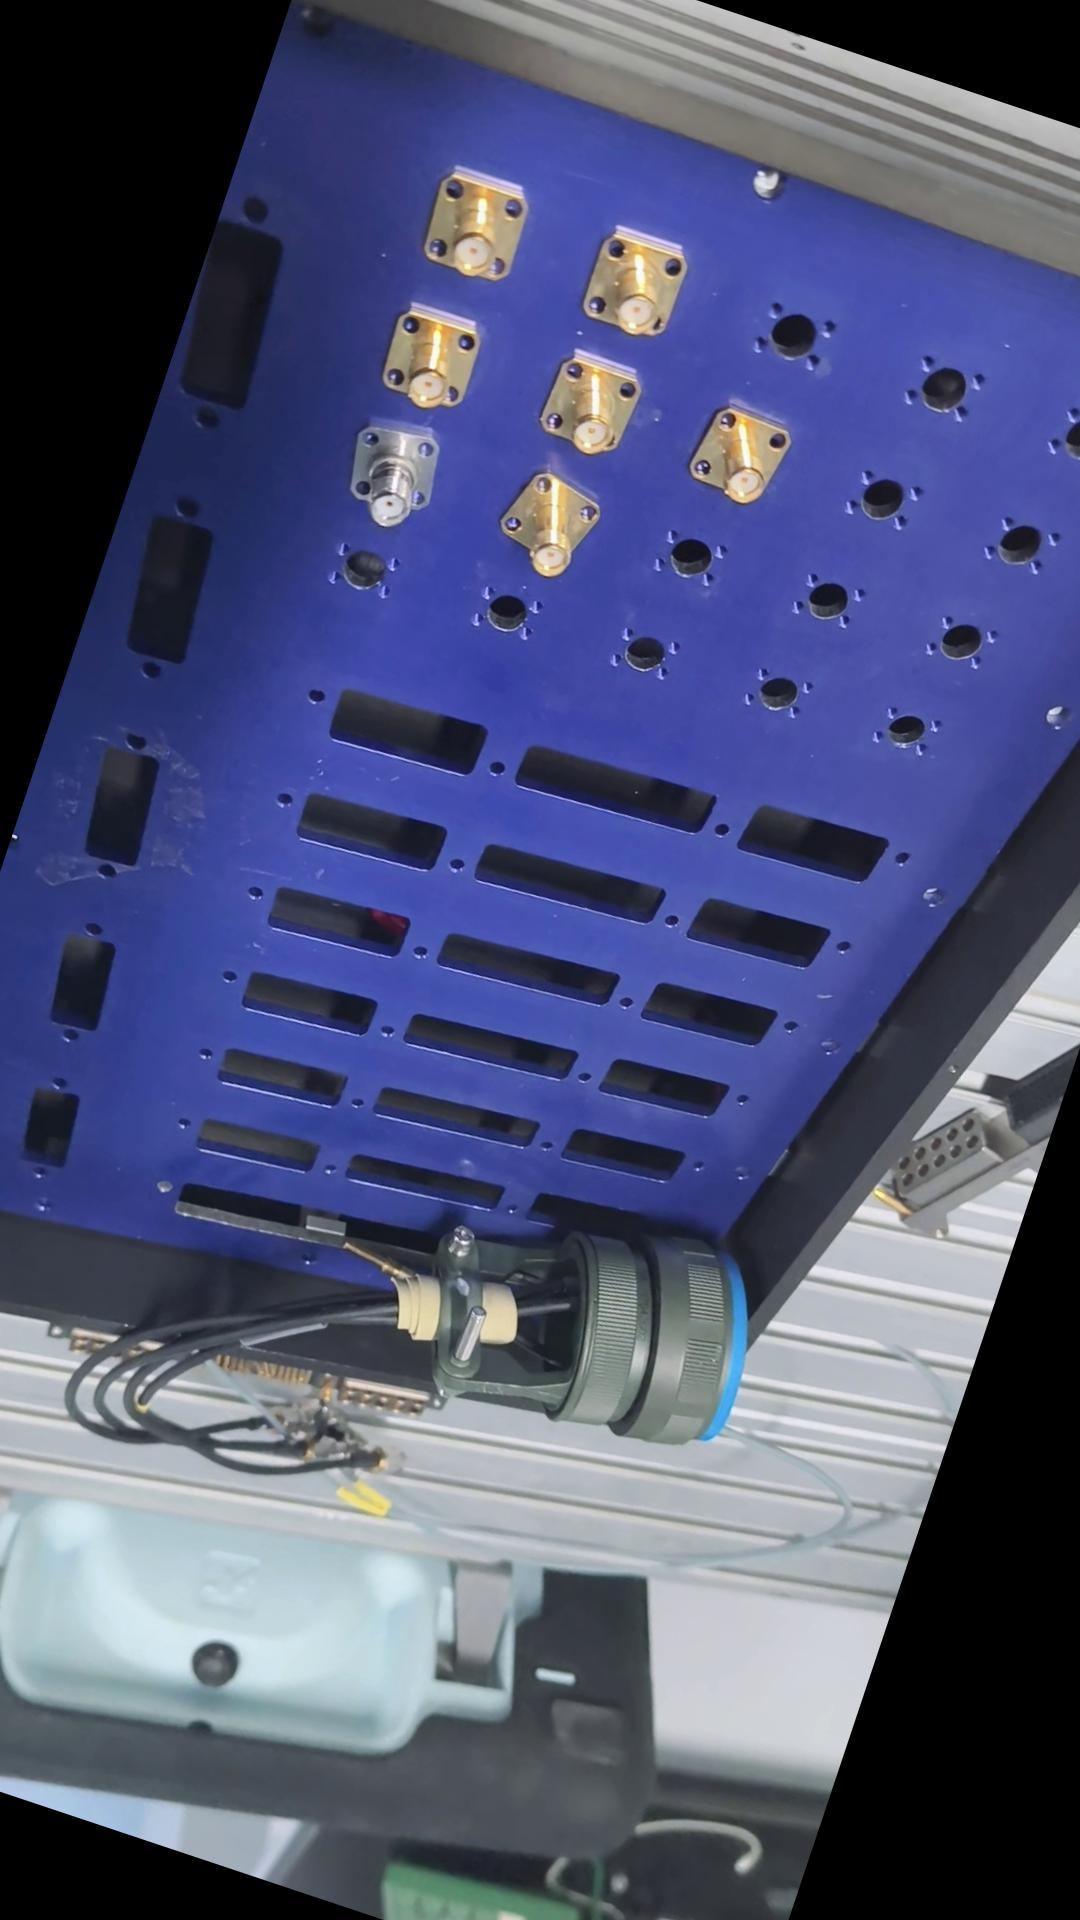SMA: (415, 158, 547, 298), (330, 409, 455, 537), (576, 219, 700, 348), (497, 462, 615, 588), (378, 299, 491, 415), (688, 396, 796, 512), (543, 351, 647, 465)
